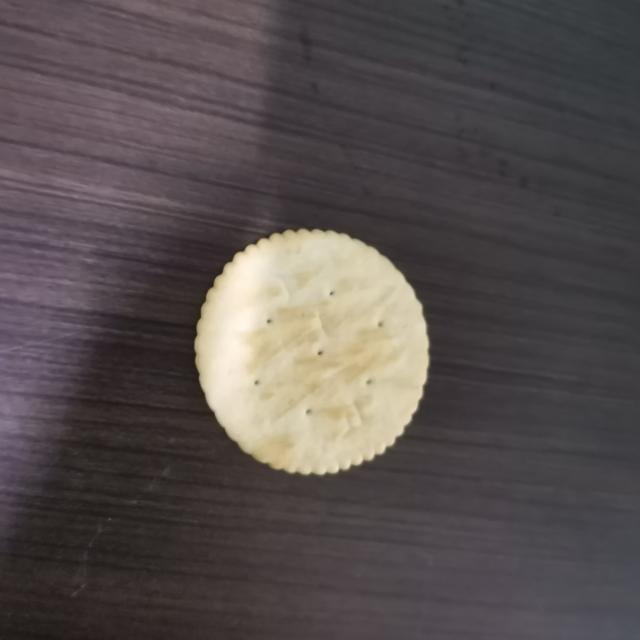Intact: (188, 220, 440, 490)
